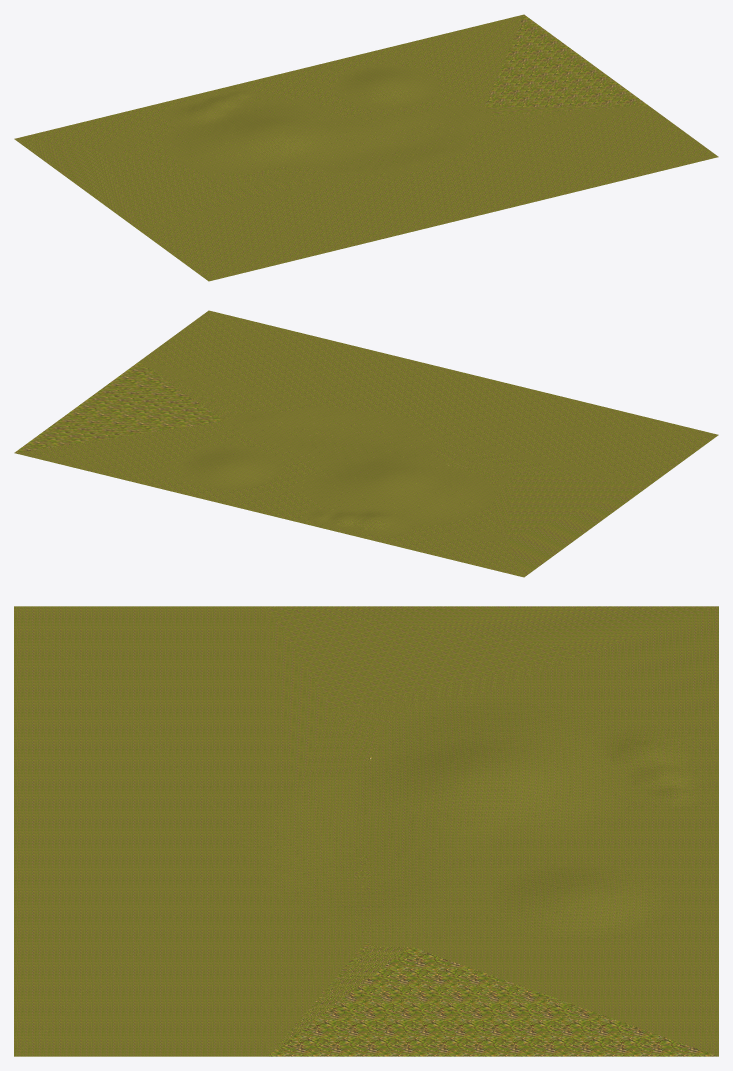
The model's file is Ground.glb.
3 views of the same model, one above another, from view 1: azimuth 30°, elevation 25°; view 2: azimuth 150°, elevation 25°; view 3: azimuth 270°, elevation 25° (orthographic). The views are drawn at different scales.
Parts seen in each view (by area): view 1: ground.001; view 2: ground.001; view 3: ground.001.
Boxes of the visible parts, x1,y1,x2,y2 form: ground.001: [14, 14, 718, 281]; ground.001: [14, 310, 718, 577]; ground.001: [14, 606, 718, 1056].
Bounding box in the file's own units: 127 × 1.65 × 83.7.
Materials: 1 (1 with a texture image).
